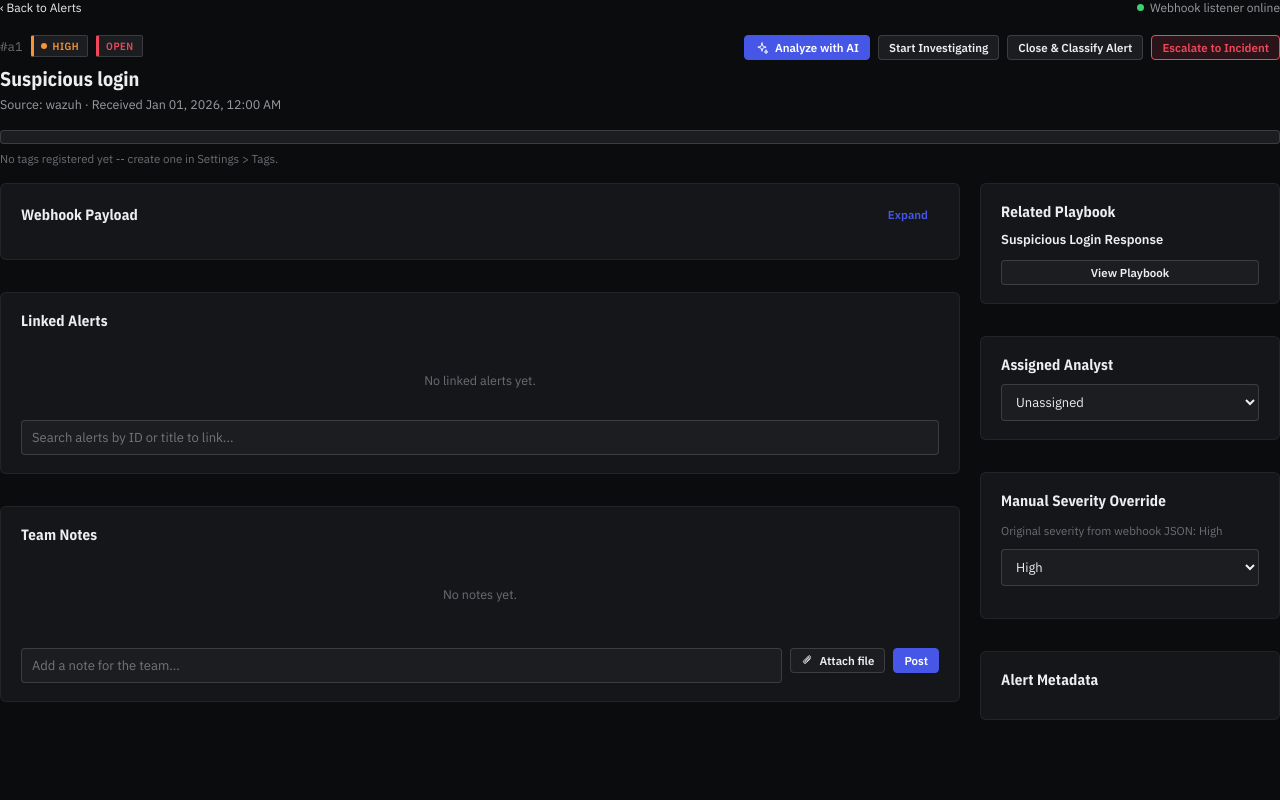
AlertDetailPage › shows the Related Playbook panel from the alert's own playbookId/playbookTitle, and opens the popup on click
Check: the heading "Related Playbook" is shown, box [1001, 202, 1116, 221]
Check: the text "Suspicious Login Response" is shown, box [1001, 231, 1163, 248]
Click the button "View Playbook": [1130, 273] box [1001, 260, 1259, 285]
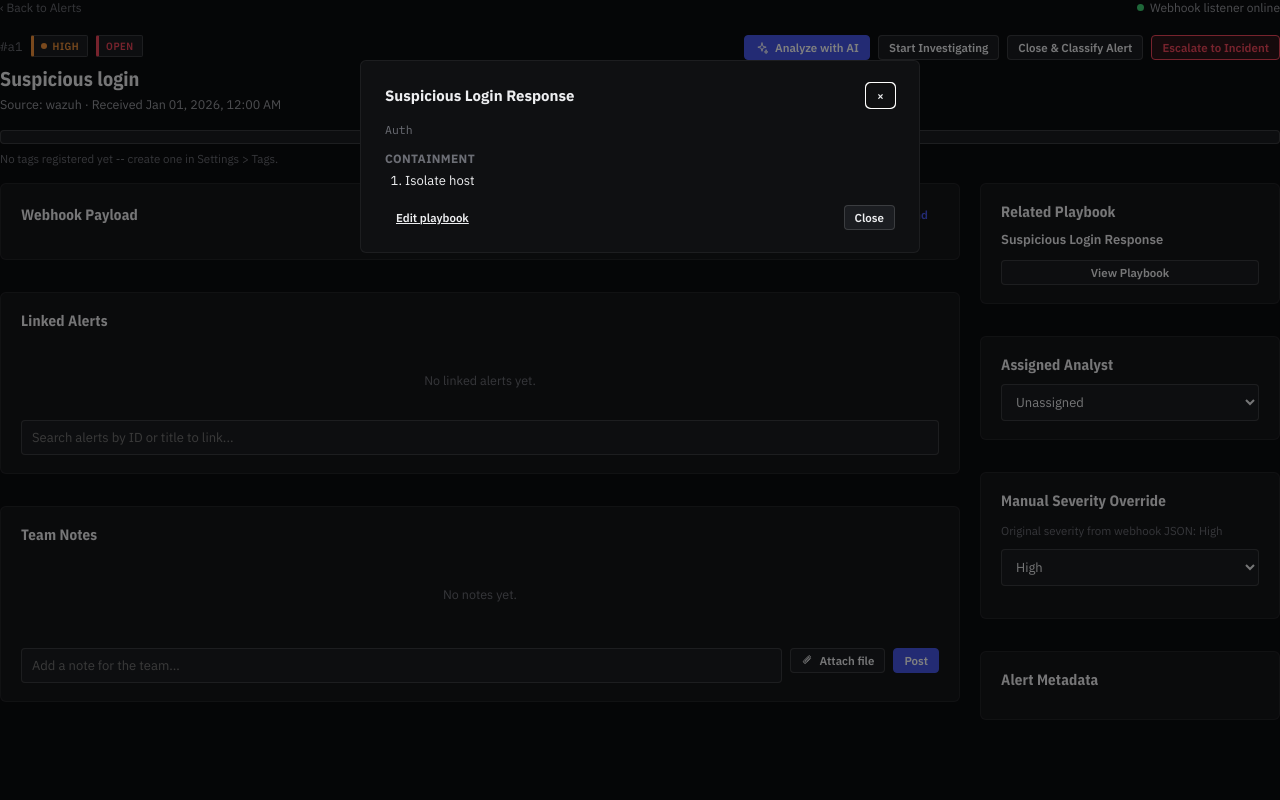
Check: the heading "Suspicious login" is shown, box [0, 65, 140, 92]
Check: the list item "Isolate host" is shown, box [405, 172, 474, 189]
